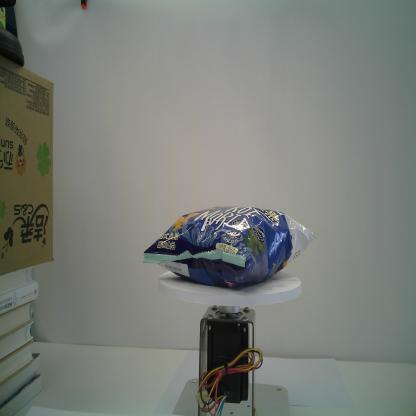Puffed Food: (142, 204, 319, 290)
